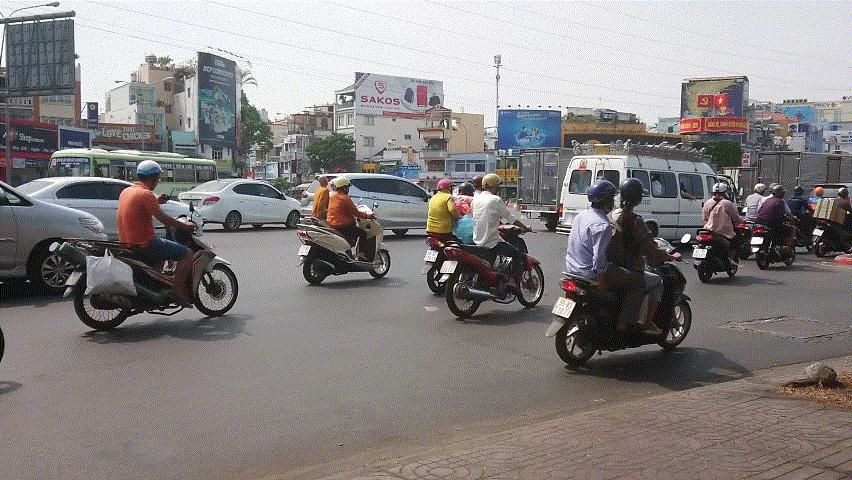driver: (47, 159, 241, 334), (546, 176, 694, 368), (437, 172, 545, 318), (294, 175, 391, 286), (694, 182, 751, 285), (749, 184, 801, 269), (809, 185, 852, 258)
helmet: (587, 179, 617, 215), (618, 178, 651, 207), (135, 160, 165, 191), (481, 173, 504, 196), (334, 176, 352, 196), (438, 178, 457, 195), (712, 182, 728, 201), (772, 185, 788, 200), (754, 182, 767, 196), (837, 187, 849, 201), (793, 184, 804, 197), (814, 186, 824, 197)
